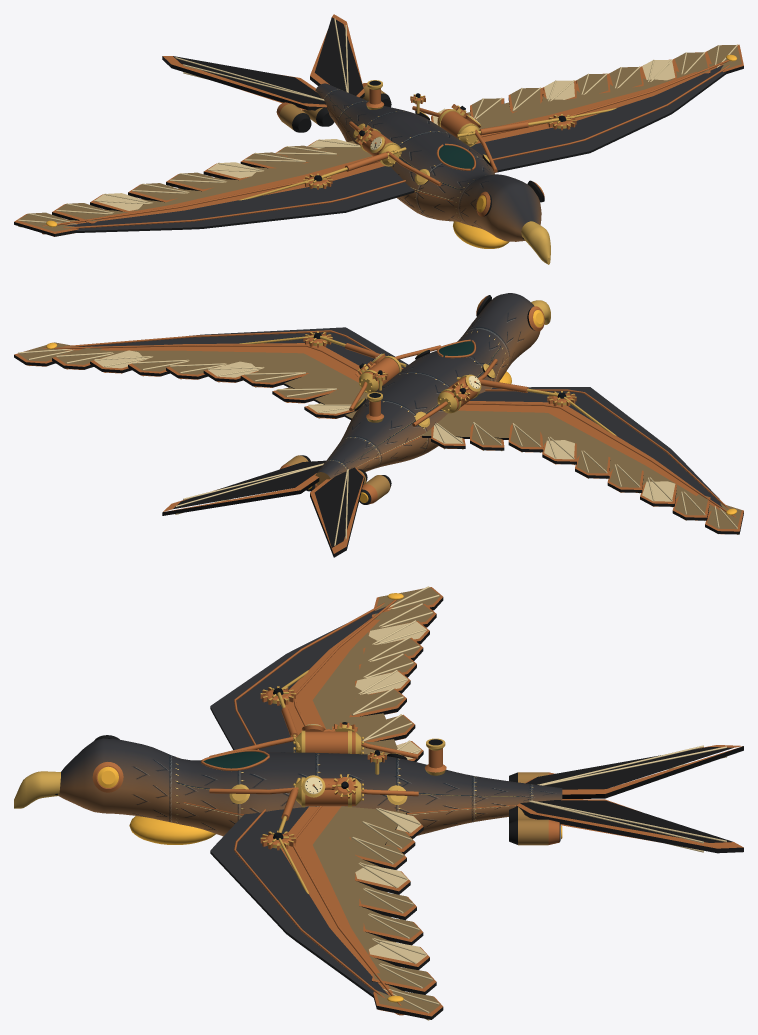
The picture shows the model from 3 angles, top to bottom: view 1: azimuth 30°, elevation 25°; view 2: azimuth 150°, elevation 25°; view 3: azimuth 270°, elevation 25°; orthographic projection. The views are drawn at different scales.
Parts seen in each view (by area): view 1: frigatebird_hull; view 2: frigatebird_hull; view 3: frigatebird_hull.
Part boxes in pixels (left/top/right/bottom): frigatebird_hull: left=14, top=14, right=743, bottom=264; frigatebird_hull: left=14, top=293, right=743, bottom=557; frigatebird_hull: left=14, top=586, right=743, bottom=1020.
Size of the model in its own units: 88 by 9.53 by 63.18.
Materials: 1 (1 with a texture image).
